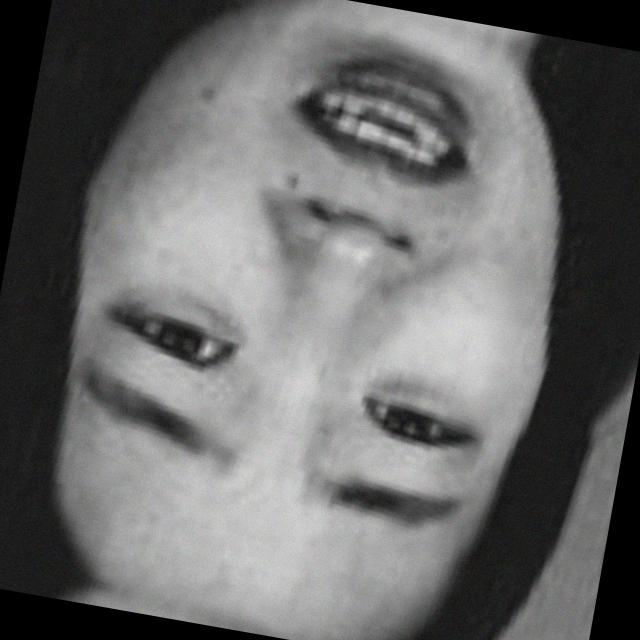fear: (42, 0, 594, 617)
